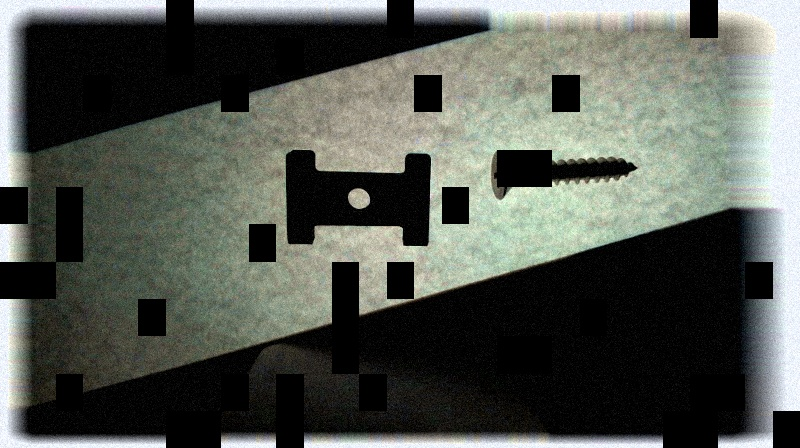O002: (283, 145, 435, 251)
S001: (487, 145, 640, 198)
